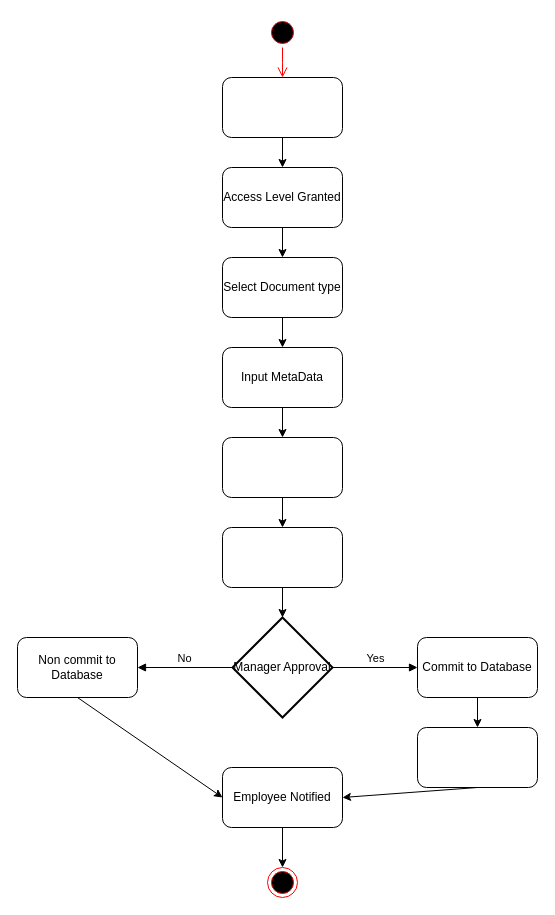
This 555x915 diagram has some shape labels left out. The shapes that lost their labels are listed below. From the top down, each one's centre as x and y in pixels, then its label:
[282,107]: Log In
[282,467]: Instance created in Database
[282,557]: Manager Notified
[477,757]: Permissions assigned
